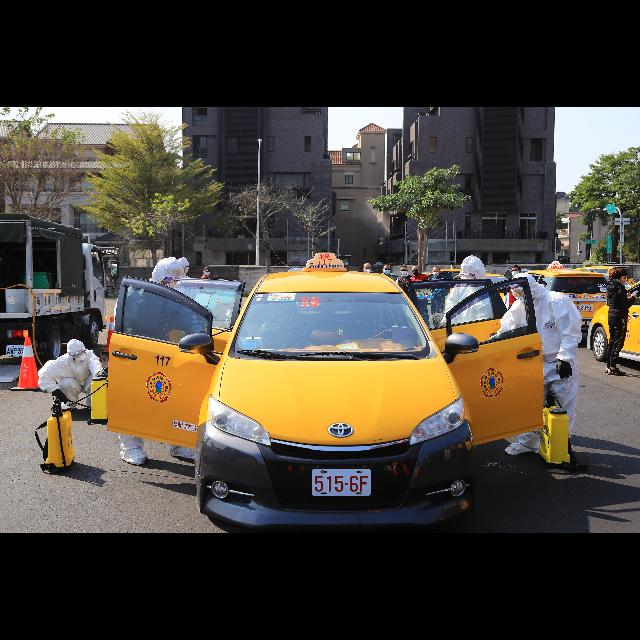plate: (312, 469, 371, 497)
